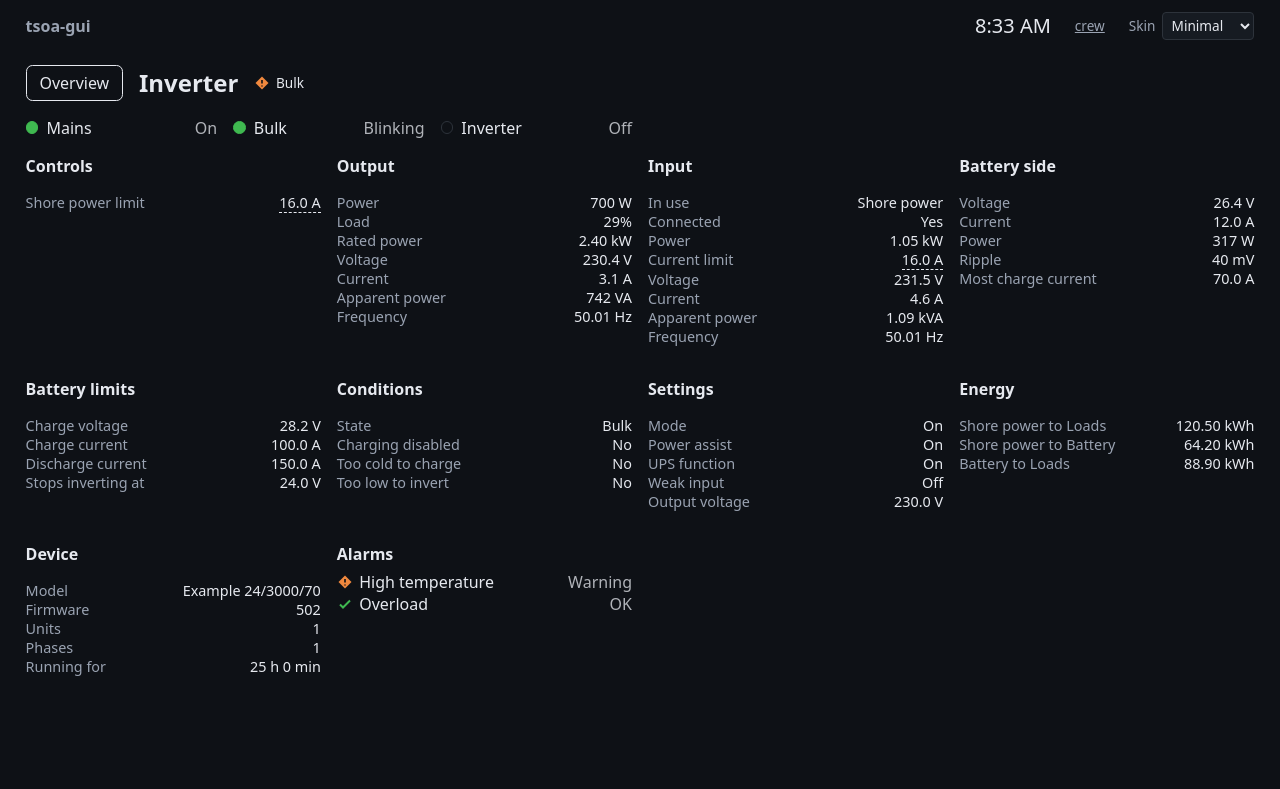
Test: the input limit panel in the minimal skin › lets an operator only lower the limit until an admin sets the breaker size
Click the button "16.0 A" next to "Shore power limit". click: (300, 203)
box: [279,193,321,213]
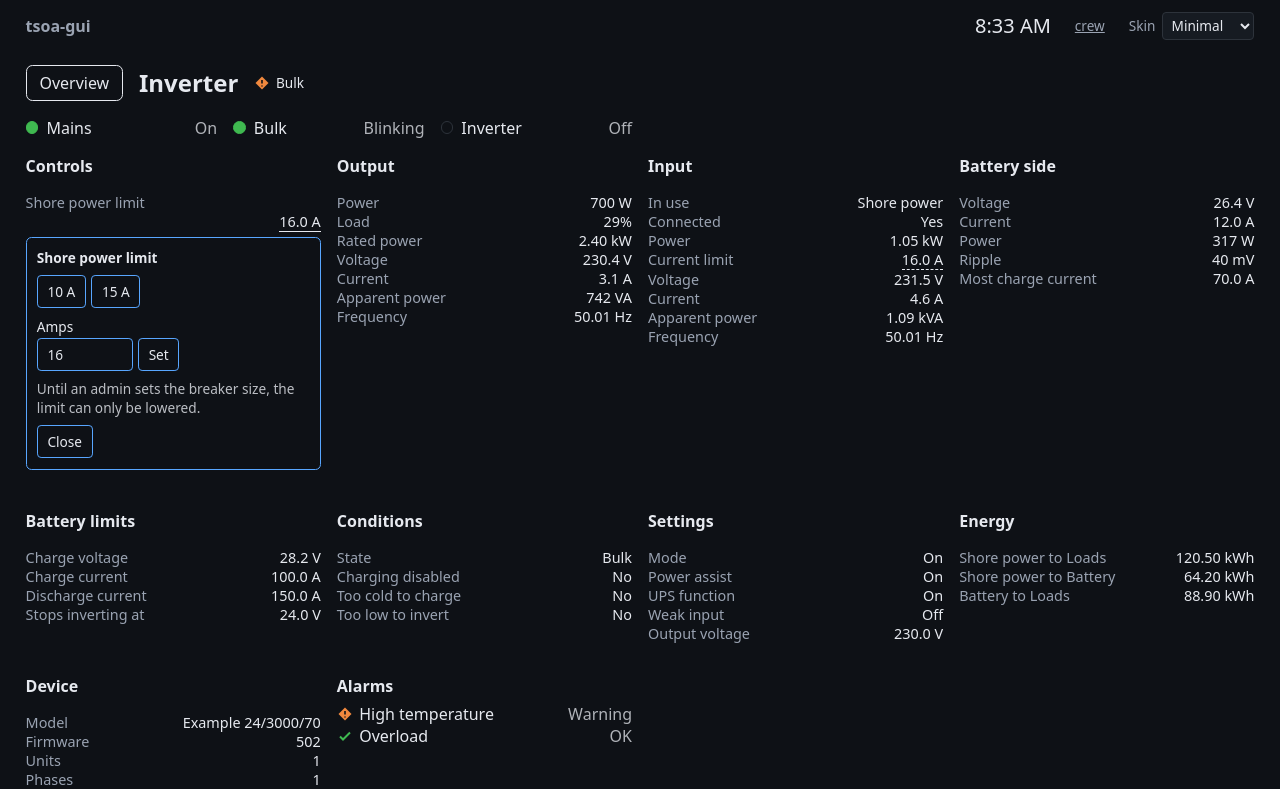
Expected: the text "can only be lowered" is shown, [37,379,294,417]
